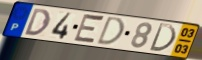4: (49, 11, 73, 41)
8: (130, 22, 154, 49)
D: (147, 22, 177, 54), (95, 15, 125, 46), (23, 8, 52, 37)
E: (72, 13, 107, 47)
